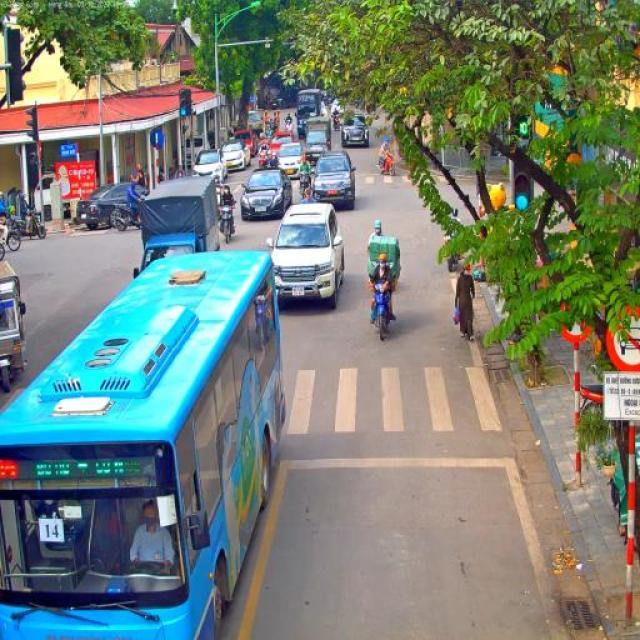bus: (0, 247, 290, 638)
car: (266, 202, 344, 310), (76, 182, 138, 228), (241, 168, 293, 222), (311, 150, 357, 210), (191, 148, 227, 183), (219, 138, 252, 174), (340, 113, 370, 148), (277, 142, 303, 178), (268, 132, 298, 160), (234, 130, 258, 158), (321, 100, 335, 118)
motorcycle: (109, 190, 150, 232), (370, 280, 394, 340), (11, 215, 47, 240), (220, 200, 236, 244), (2, 222, 22, 252), (376, 150, 396, 176), (447, 242, 462, 272), (298, 172, 312, 198), (0, 225, 8, 263), (259, 148, 269, 168), (263, 125, 273, 144), (332, 116, 340, 132)
truck: (132, 174, 222, 278), (0, 258, 26, 392), (302, 116, 332, 162), (296, 88, 322, 141), (248, 110, 264, 140)
